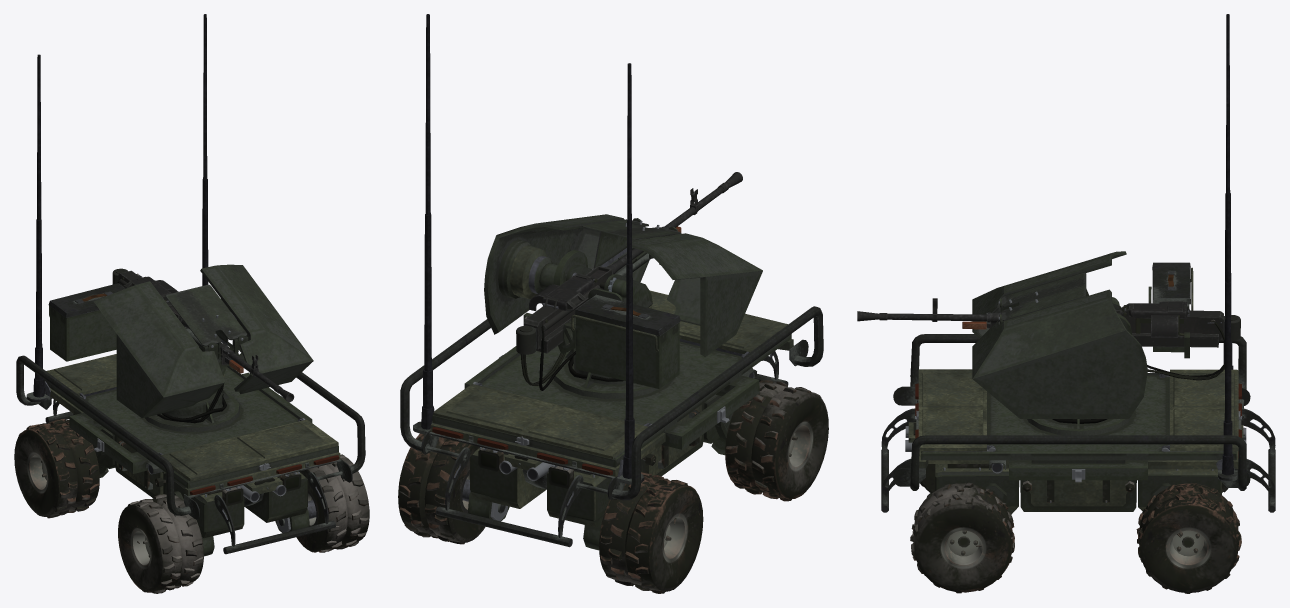
Rendered from the_d-21-11_robot_2.glb.
The picture shows the model from 3 angles, left to right: view 1: azimuth 30°, elevation 25°; view 2: azimuth 150°, elevation 25°; view 3: azimuth 270°, elevation 25°; orthographic projection. The views are drawn at different scales.
Parts seen in each view (by area): view 1: D-21, D-11; view 2: D-21, D-11; view 3: D-21, D-11.
Boxes of the visible parts, x1=… form: D-21: x1=14, y1=14, x2=369, y2=593; D-11: x1=48, y1=264, x2=313, y2=431; D-21: x1=398, y1=14, x2=828, y2=593; D-11: x1=484, y1=172, x2=762, y2=398; D-21: x1=881, y1=14, x2=1275, y2=593; D-11: x1=857, y1=251, x2=1240, y2=435.
Bounding box in the file's own units: 1.5 × 2.99 × 2.35.
Materials: 1 (1 with a texture image).
